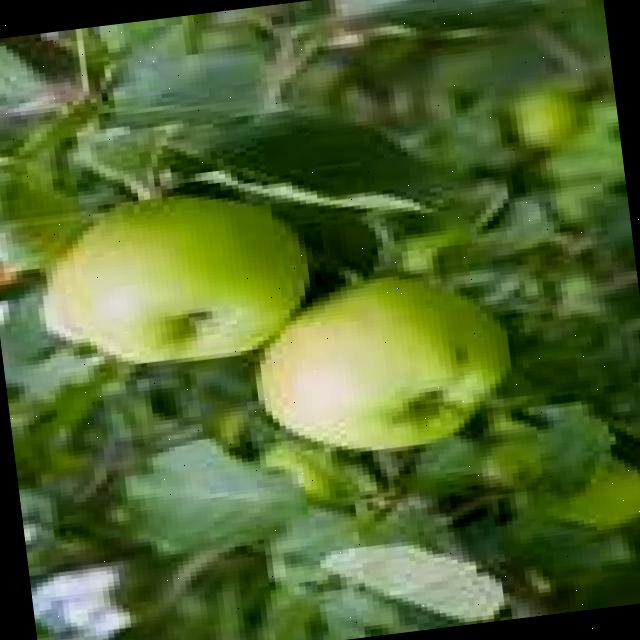Unripe: (31, 178, 320, 376), (244, 262, 519, 464)
